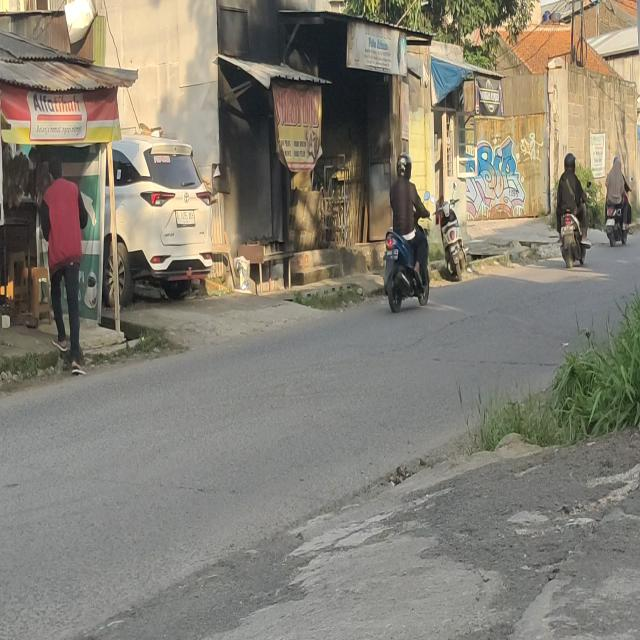helmet: (396, 152, 414, 183), (564, 152, 576, 174)
no-helmet: (614, 156, 622, 171)
